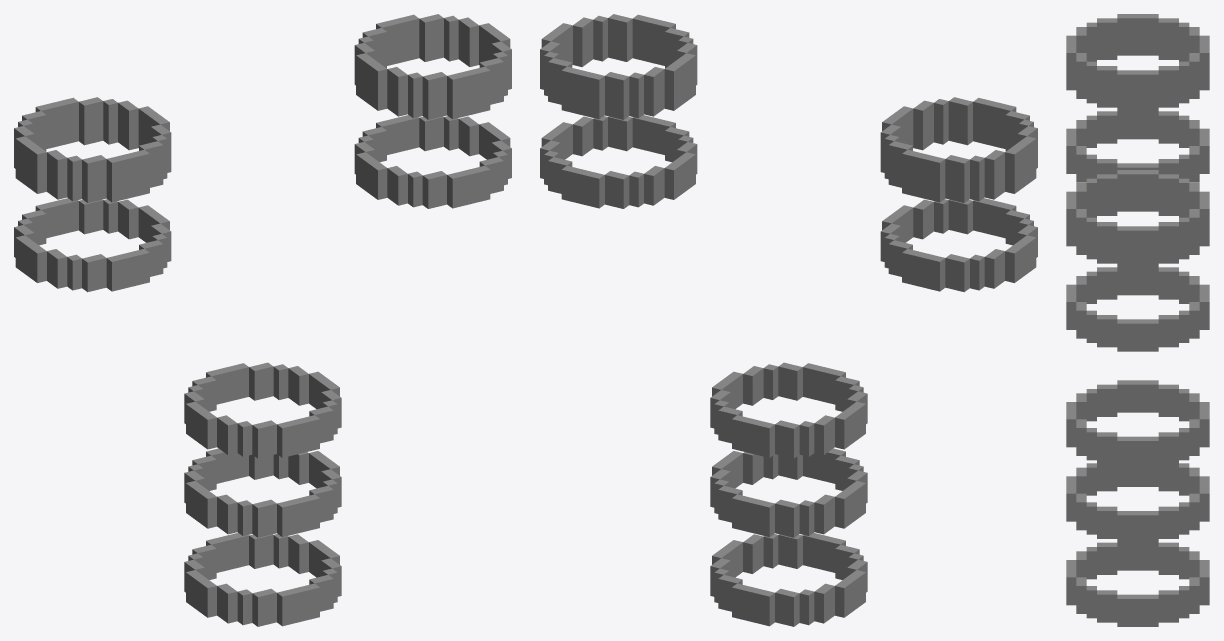
The model's file is Tirachinas.obj.
3 views of the same model, side by side, from view 1: azimuth 30°, elevation 25°; view 2: azimuth 150°, elevation 25°; view 3: azimuth 270°, elevation 25° (orthographic). The views are drawn at different scales.
Bounding box in the file's own units: 5 × 5.1 × 1.4.
1 material, 1 textured.
